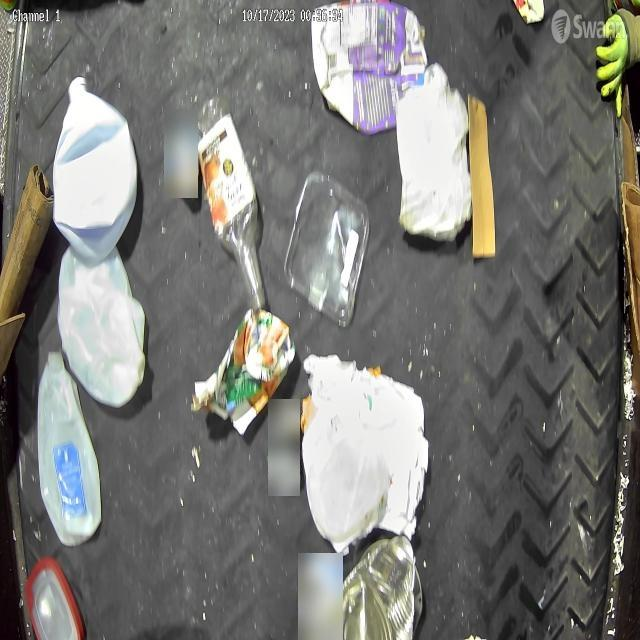milk_jug: (52, 76, 138, 266), (58, 244, 148, 406), (36, 352, 102, 547)
non_white_jug: (311, 0, 427, 136)
